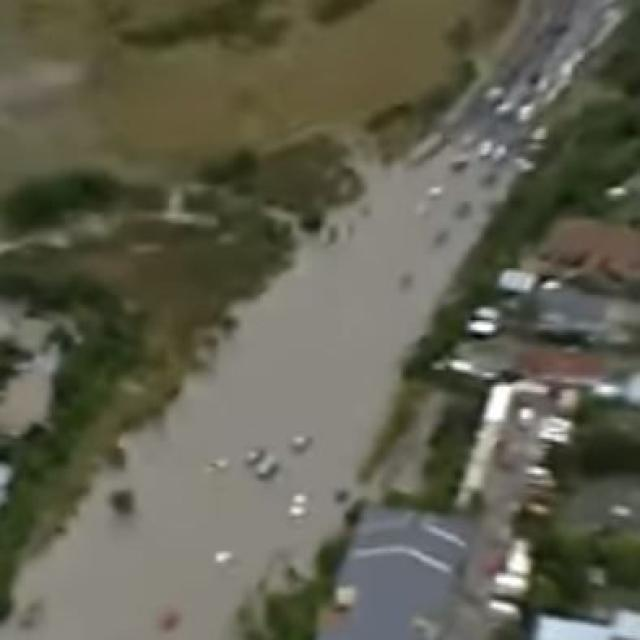flooded_areas: (16, 151, 504, 638)
